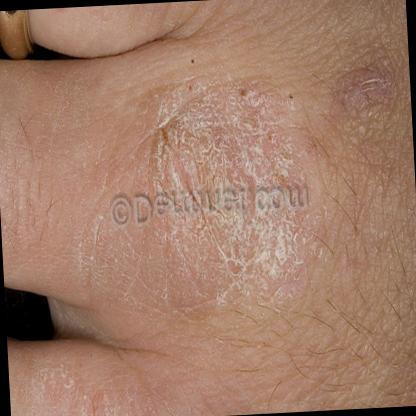Eczema: (154, 218, 333, 361), (179, 67, 322, 193), (81, 57, 187, 196), (7, 340, 112, 416), (328, 34, 398, 131), (85, 235, 157, 302), (108, 375, 192, 416)
